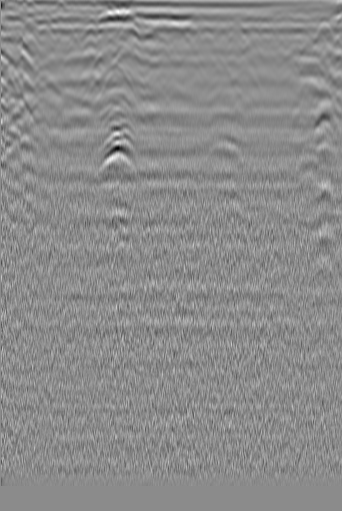가스: (95, 128, 135, 171)
상수: (10, 33, 37, 71)
오수: (303, 18, 339, 54)
우수: (139, 19, 187, 47)
